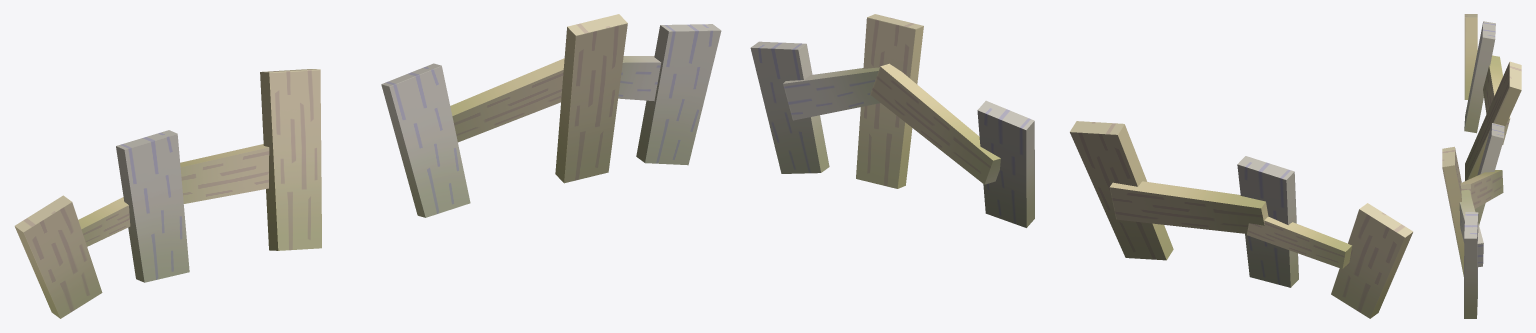
File: BG_018_fence.FBX
The picture shows the model from 3 angles, left to right: view 1: azimuth 30°, elevation 25°; view 2: azimuth 150°, elevation 25°; view 3: azimuth 270°, elevation 25°; orthographic projection. The views are drawn at different scales.
Visible parts, largest first — view 1: BG_018_fence; view 2: BG_018_fence; view 3: BG_018_fence.
Part boxes in pixels (x1=…): BG_018_fence: x1=14, y1=14, x2=721, y2=318; BG_018_fence: x1=750, y1=14, x2=1413, y2=318; BG_018_fence: x1=1442, y1=14, x2=1521, y2=318.
Size of the model in its own units: 777 by 187 by 106.
